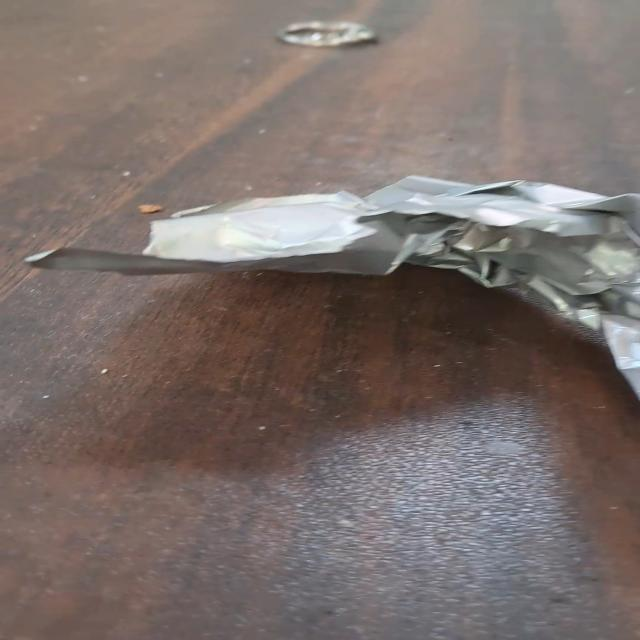Anorganik: (20, 171, 640, 415)
